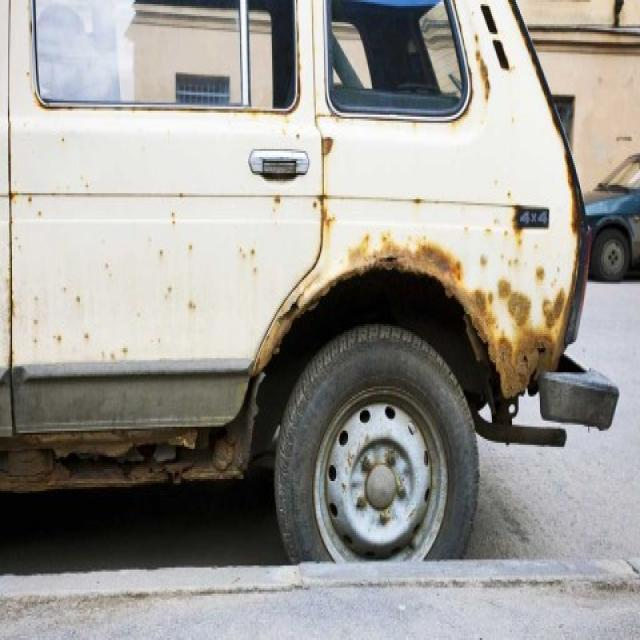corrosion: (1, 435, 234, 476), (349, 232, 465, 286), (495, 323, 556, 395), (567, 187, 592, 345), (444, 284, 497, 357), (256, 287, 298, 348), (499, 280, 532, 327), (480, 48, 496, 108), (544, 290, 566, 329), (321, 200, 334, 232), (319, 137, 335, 161)
